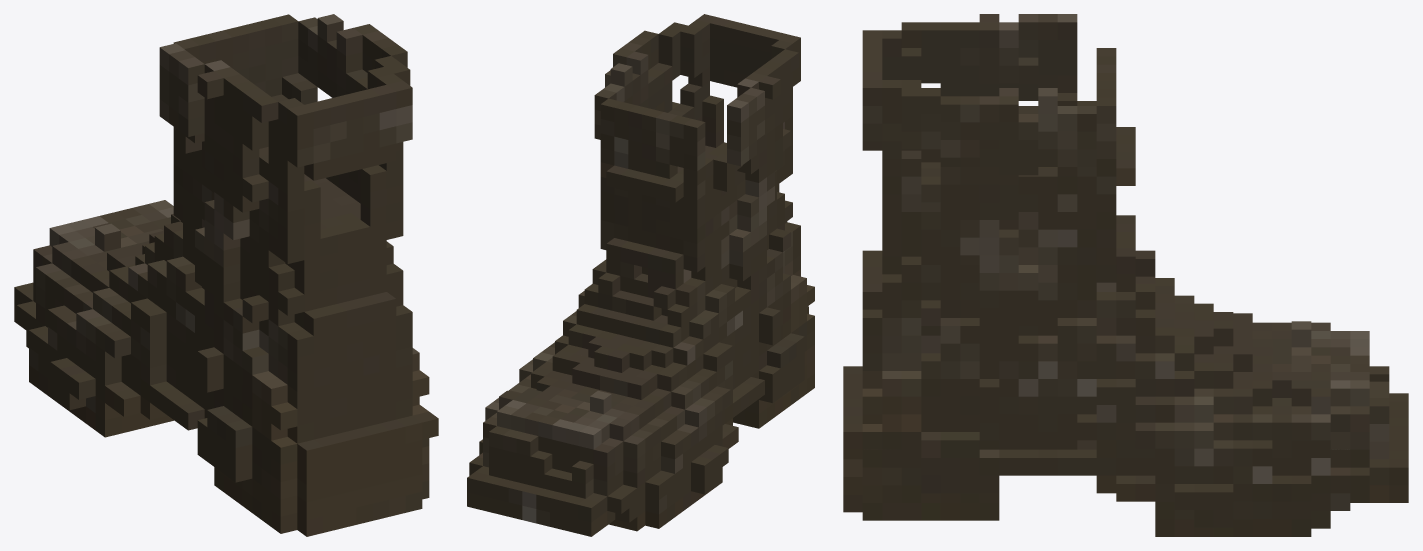
File: 89a8de68-1c3b-42b4-82e5-0a7ebce32ab6-model.glb
3 renders of one model, left to right at view 1: azimuth 30°, elevation 25°; view 2: azimuth 150°, elevation 25°; view 3: azimuth 270°, elevation 25°, orthographic. The views are drawn at different scales.
Parts seen in each view (by area): view 1: tripo_node_89a8de68-1c3b-42b4-82e5-0a7ebce32ab6; view 2: tripo_node_89a8de68-1c3b-42b4-82e5-0a7ebce32ab6; view 3: tripo_node_89a8de68-1c3b-42b4-82e5-0a7ebce32ab6.
Boxes of the visible parts, x1,y1,x2,y2 form: tripo_node_89a8de68-1c3b-42b4-82e5-0a7ebce32ab6: [14, 14, 438, 536]; tripo_node_89a8de68-1c3b-42b4-82e5-0a7ebce32ab6: [467, 14, 814, 536]; tripo_node_89a8de68-1c3b-42b4-82e5-0a7ebce32ab6: [843, 14, 1408, 536].
Size of the model in its own units: 0.5208 by 0.8333 by 1.01.
1 material, 1 textured.
